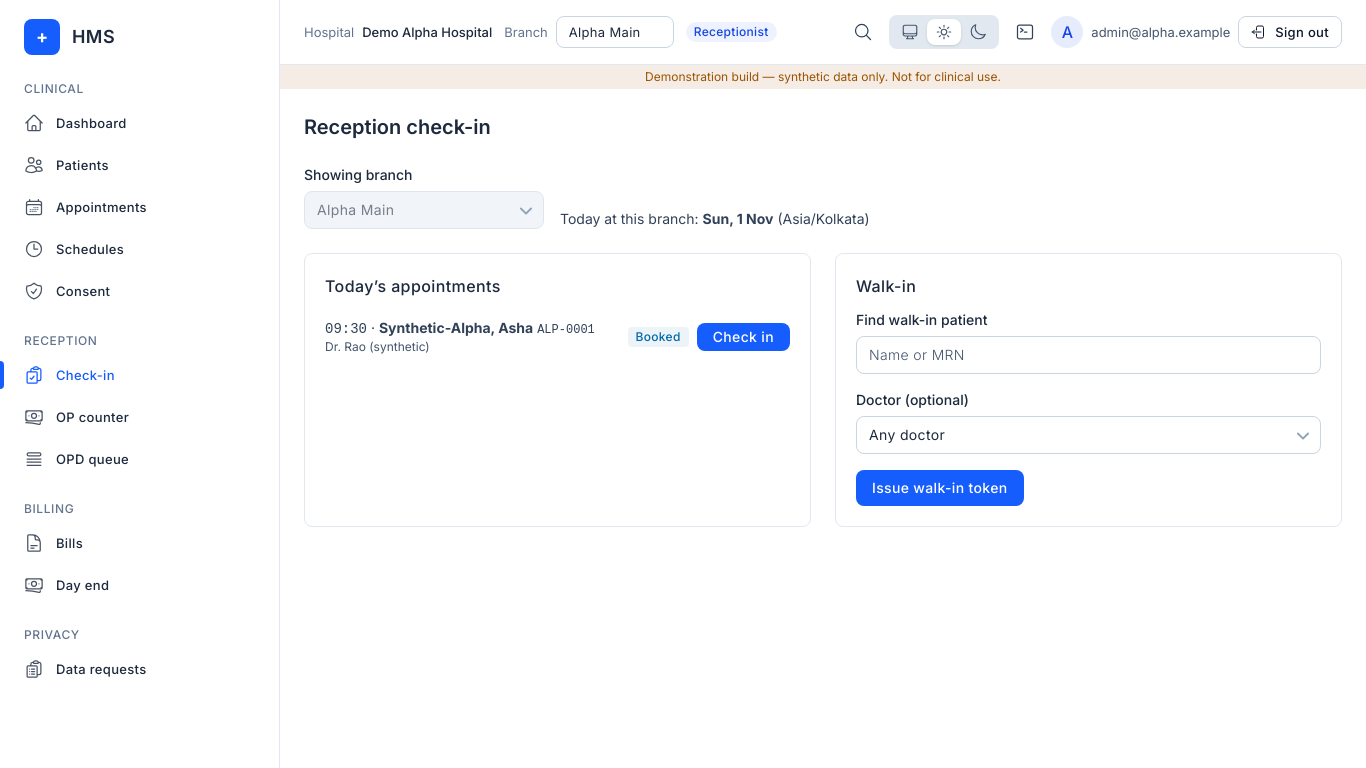
CheckInPage › issues a walk-in token for a searched patient with an optional doctor
Click the button "Issue walk-in token" at (940, 488), box [856,470,1024,506]
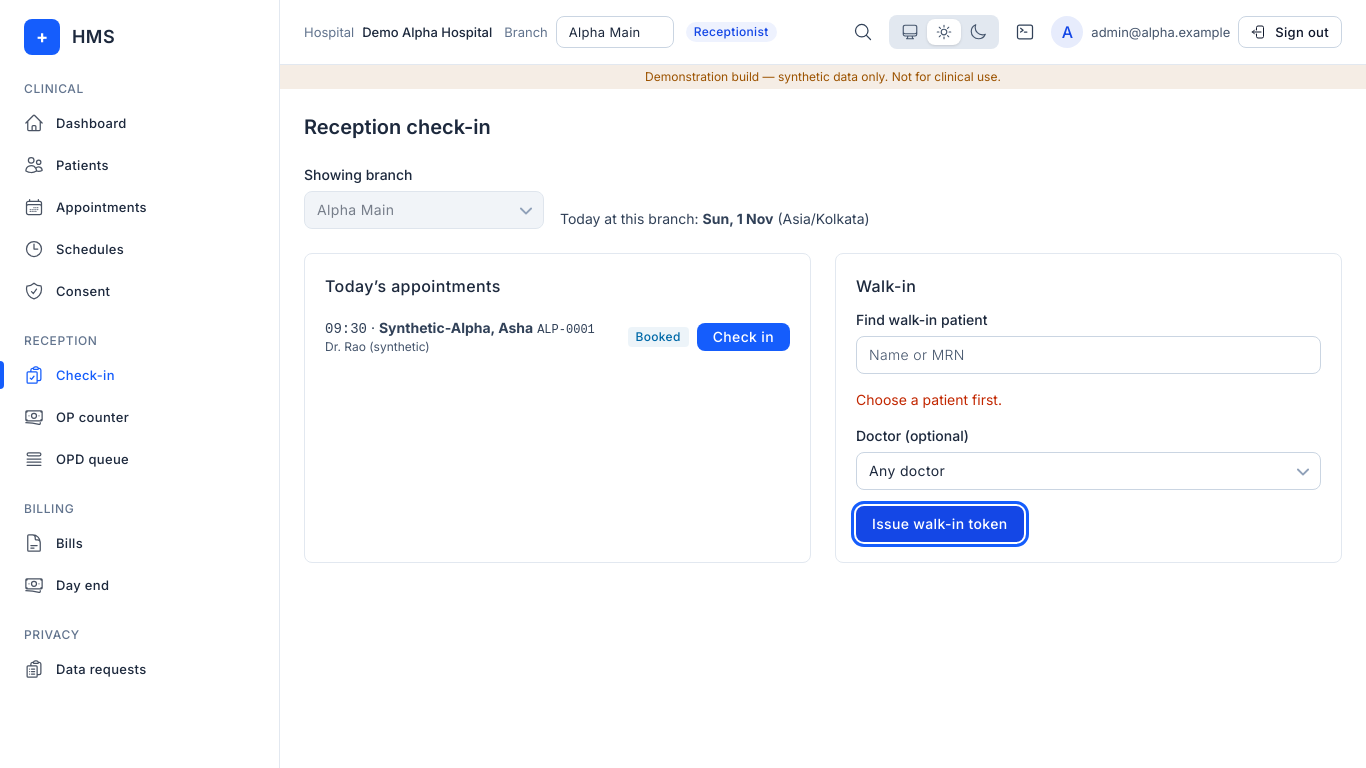
Expected: the message reads "Choose a patient first.", [856,391,1002,408]
Type "ALP-0001" into the dropdown labelled "Find walk-in patient" at (1088, 355), box [856,336,1321,374]
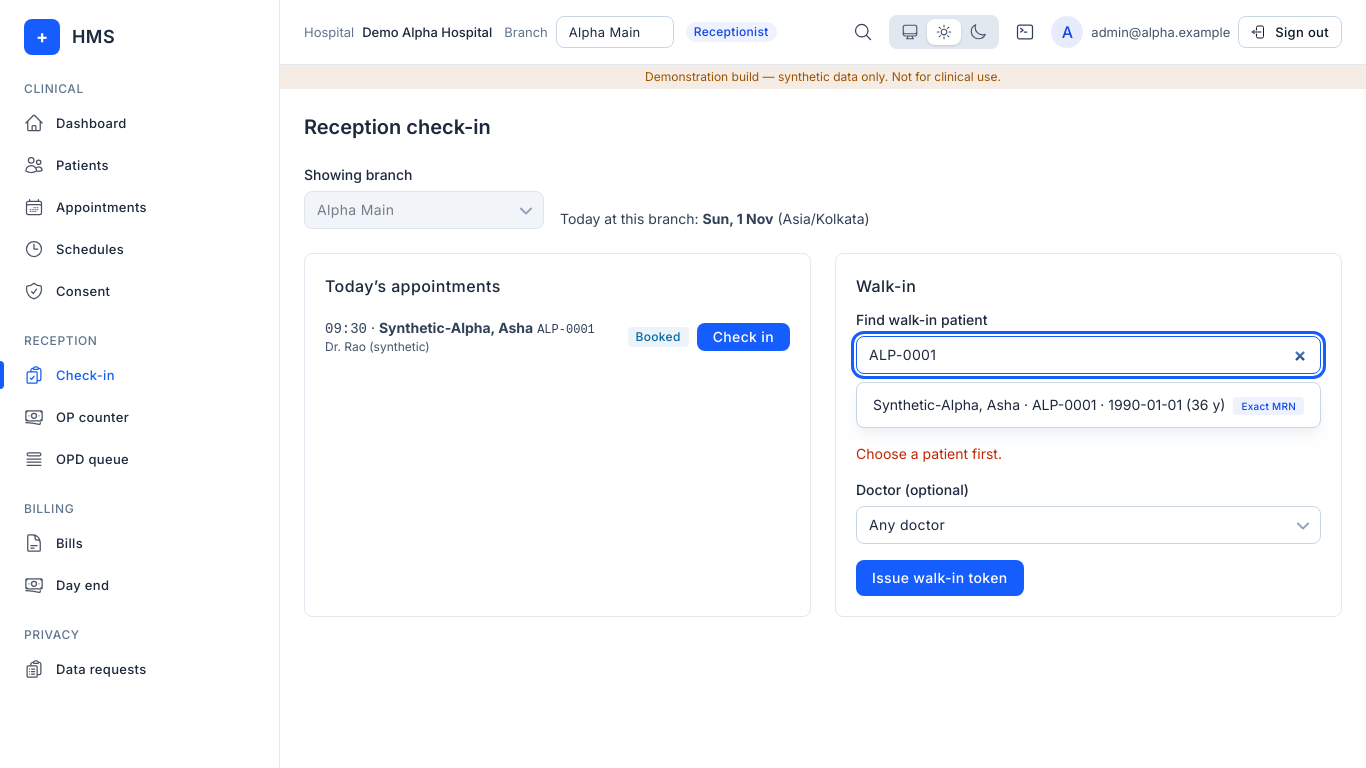
Click the option "Synthetic-Alpha, Asha" at (1088, 406), box [873,396,1304,415]
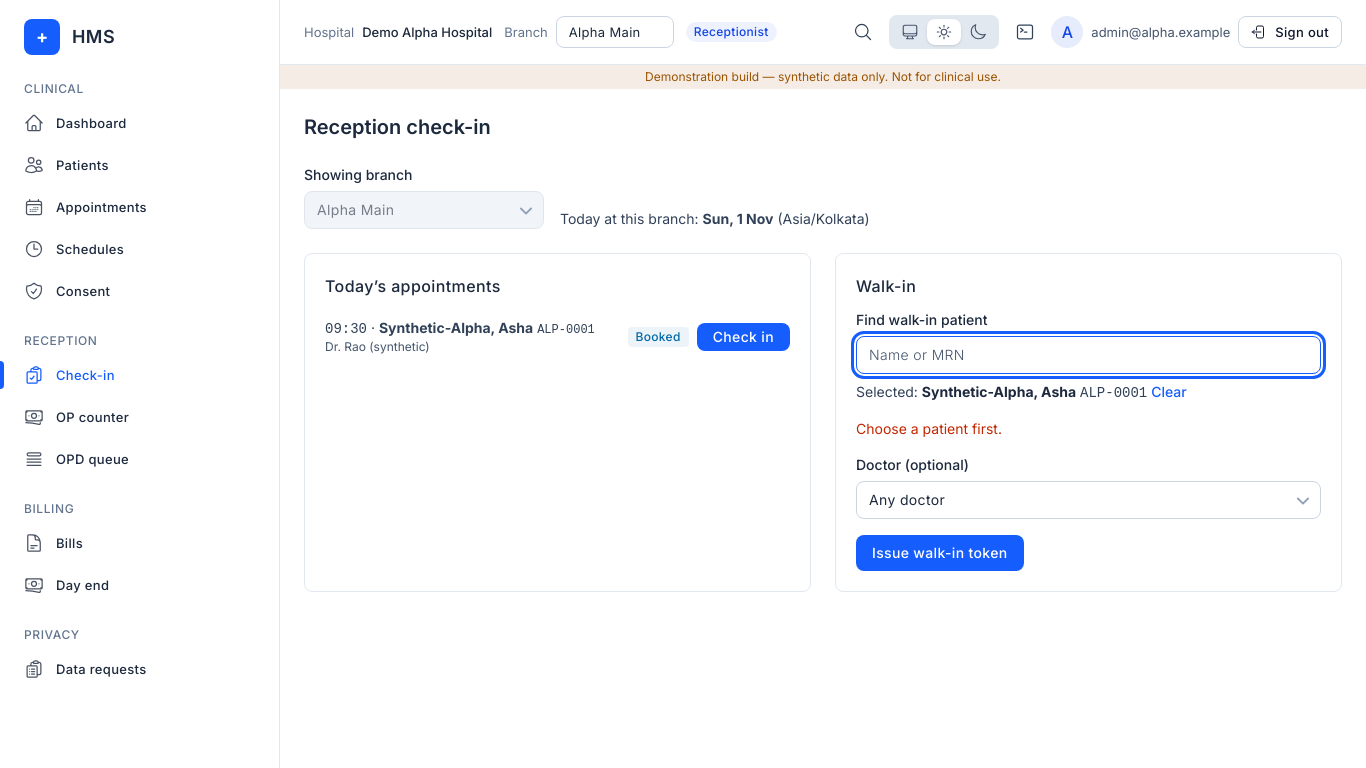
Select "Dr. Rao (synthetic)" in the dropdown labelled "Doctor (optional)" at (1088, 500), box [856,481,1321,519]
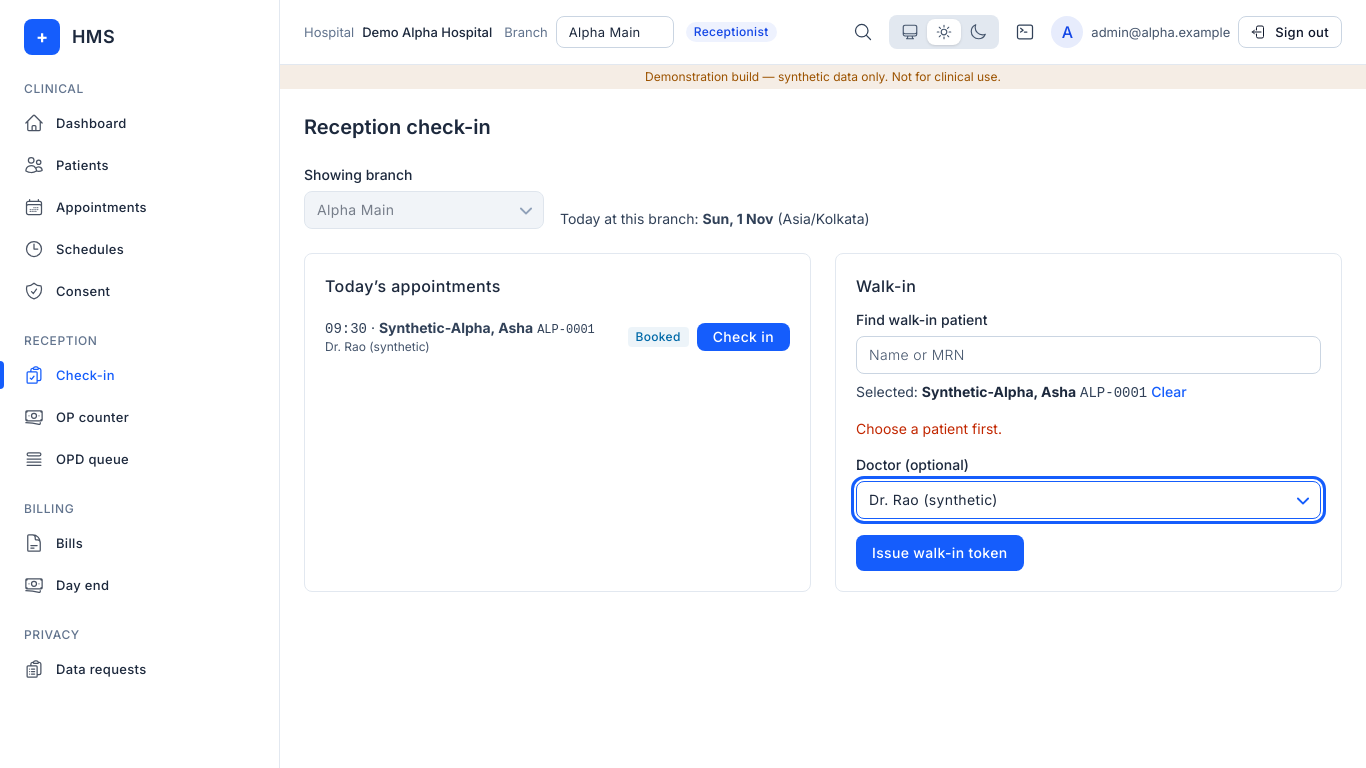
Click the button "Issue walk-in token" at (940, 553), box [856,535,1024,571]
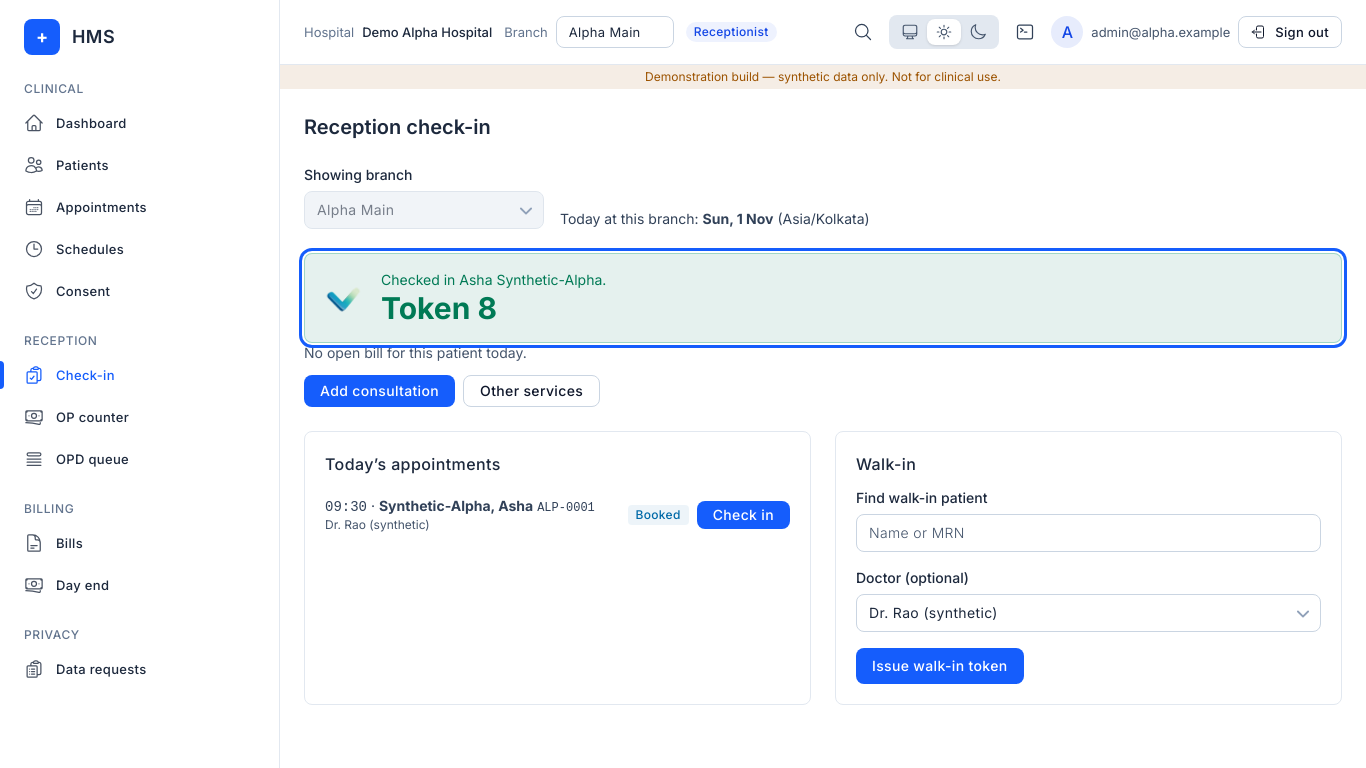
Expected: the text with test id "token-number" reads "8", [478,290,497,326]
